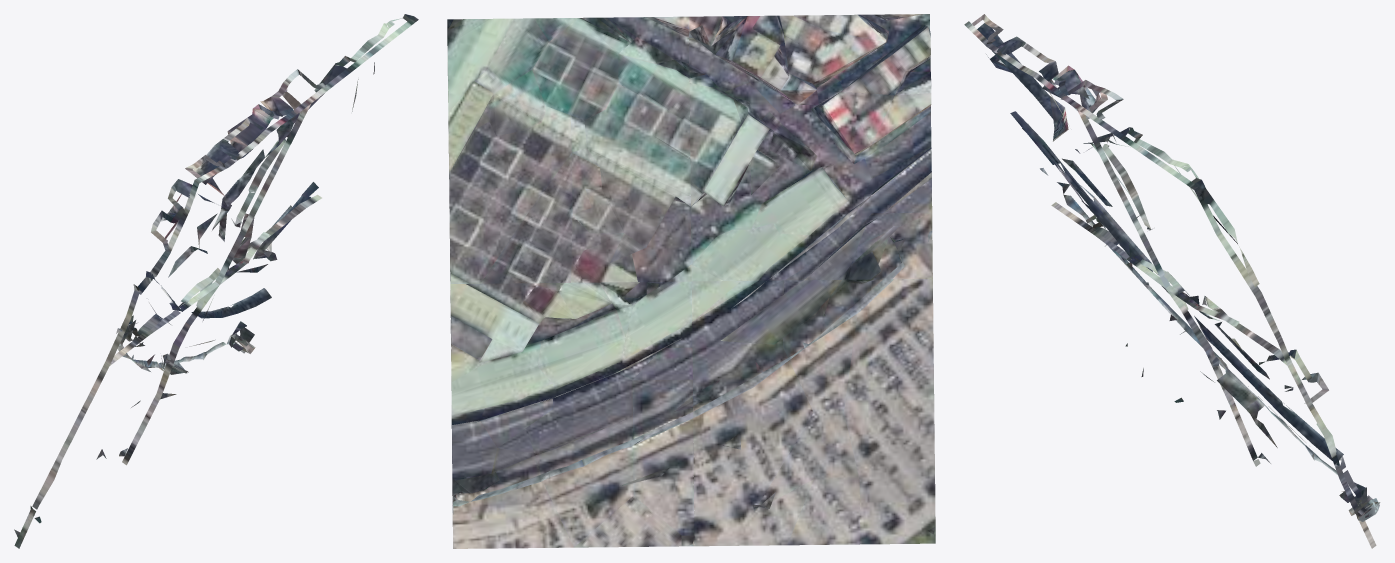
3 renders of one model, left to right at view 1: azimuth 30°, elevation 25°; view 2: azimuth 150°, elevation 25°; view 3: azimuth 270°, elevation 25°, orthographic. The views are drawn at different scales.
Size of the model in its own units: 306 by 286 by 257.
Materials: 1 (1 with a texture image).
